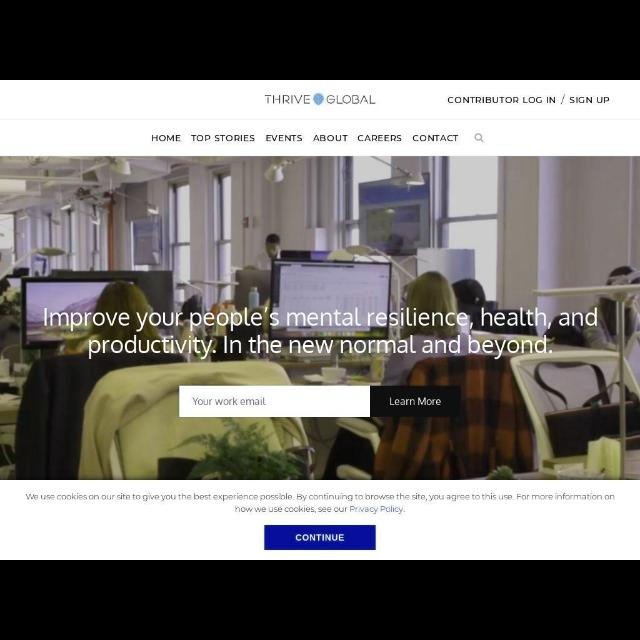backgroundimage: (1, 157, 639, 480)
icon: (473, 132, 487, 146)
image: (262, 90, 376, 108)
input: (178, 384, 370, 418)
link: (349, 505, 405, 515)
text: (40, 303, 602, 361), (25, 491, 617, 515), (444, 94, 612, 106), (190, 393, 268, 407), (191, 132, 257, 144), (388, 395, 444, 409), (356, 131, 404, 145), (296, 530, 344, 542), (413, 132, 459, 144), (264, 132, 304, 144), (312, 132, 350, 144), (150, 132, 182, 144)
textbutton: (264, 524, 376, 550), (372, 386, 460, 416)
toolbar: (1, 84, 639, 154)
